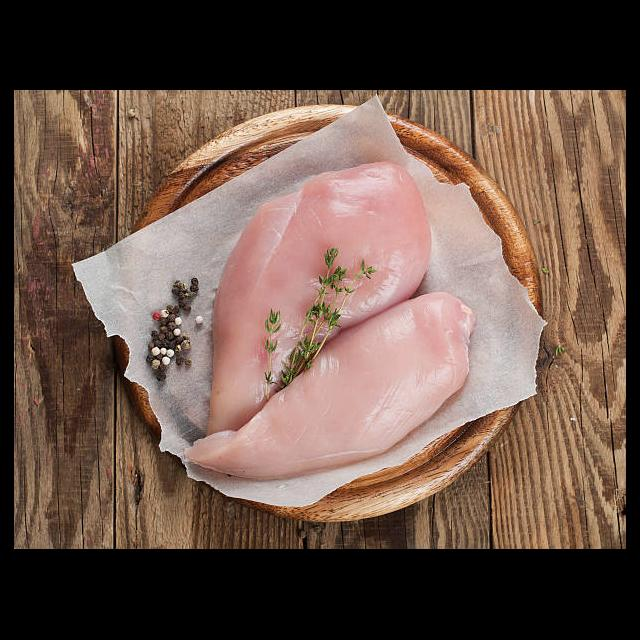chicken: (182, 160, 472, 490)
